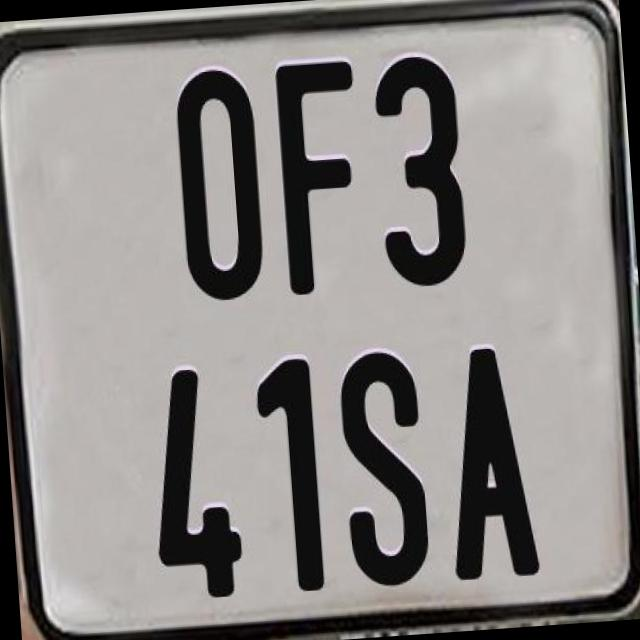0: (172, 63, 272, 300)
1: (254, 358, 332, 594)
3: (368, 50, 468, 292)
4: (146, 362, 246, 602)
A: (438, 346, 540, 590)
F: (272, 60, 366, 302)
S: (334, 348, 436, 598)
